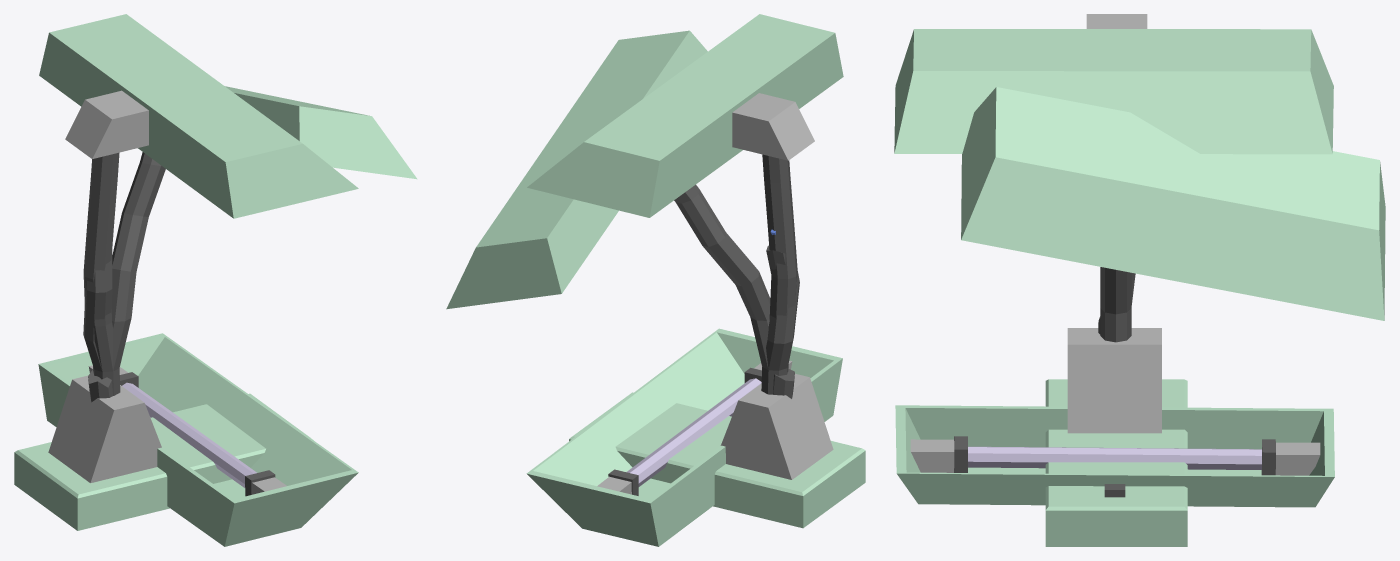
Rendered from Lamp2.fbx.
3 views of the same model, side by side, from view 1: azimuth 30°, elevation 25°; view 2: azimuth 150°, elevation 25°; view 3: azimuth 270°, elevation 25° (orthographic). The views are drawn at different scales.
Visible parts, largest first — view 1: Lamp2.1, Lamp2.4, Lamp2.3, Lamp2.2; view 2: Lamp2.1, Lamp2.4, Lamp2.2, Lamp2.3; view 3: Lamp2.2, Lamp2.1, Lamp2.4, Lamp2.3.
Part boxes in pixels (<box>): Lamp2.1: <box>39,14,358,371</box>; Lamp2.4: <box>38,333,358,546</box>; Lamp2.3: <box>14,251,313,530</box>; Lamp2.2: <box>111,86,417,371</box>; Lamp2.1: <box>527,14,843,327</box>; Lamp2.4: <box>526,328,842,546</box>; Lamp2.2: <box>446,30,770,369</box>; Lamp2.3: <box>569,229,865,528</box>; Lamp2.2: <box>961,87,1385,320</box>; Lamp2.1: <box>894,14,1333,154</box>; Lamp2.4: <box>895,316,1334,507</box>; Lamp2.3: <box>1045,273,1187,546</box>.
Size of the model in its own units: 32.58 by 40.37 by 40.87.
